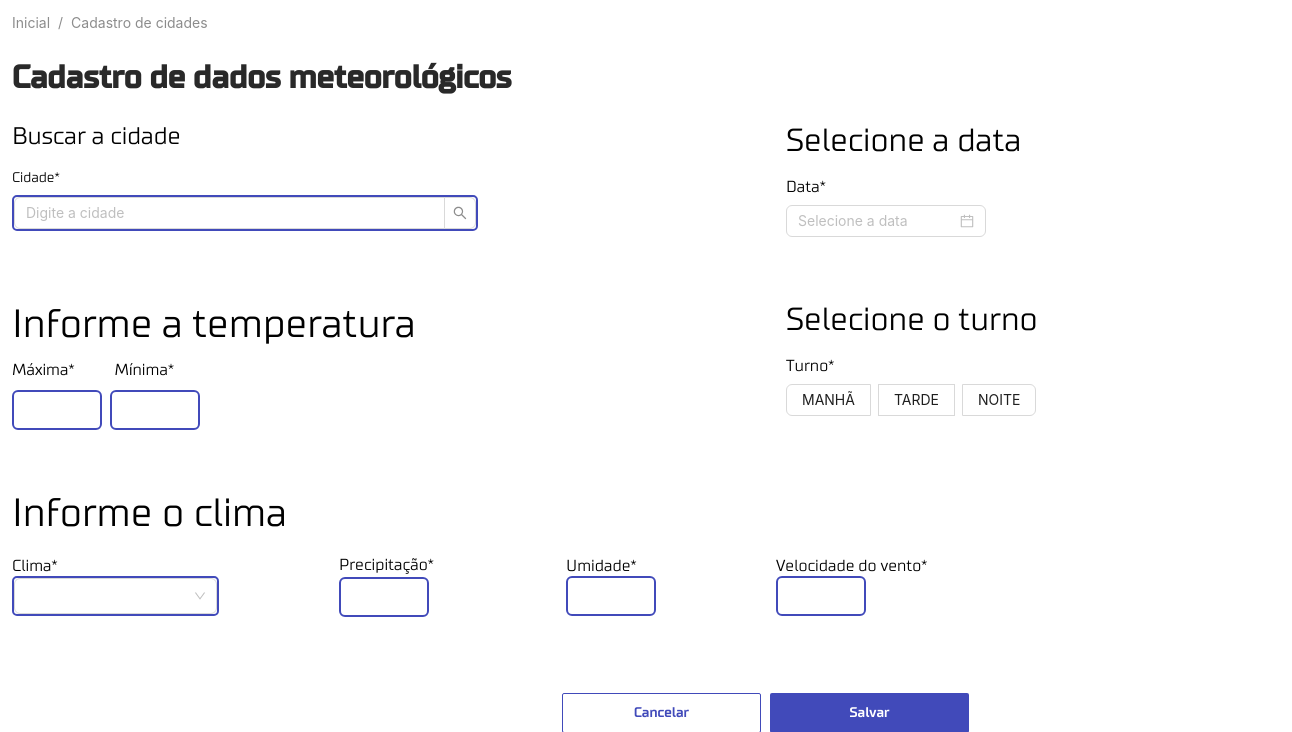
Test case: CadastroCidadePage › Componente de informação do clima › Deve preencher a precipitação corretamente
In the number field with test id "input_precipitacao": (384, 594) [341,579,427,609], type "1"
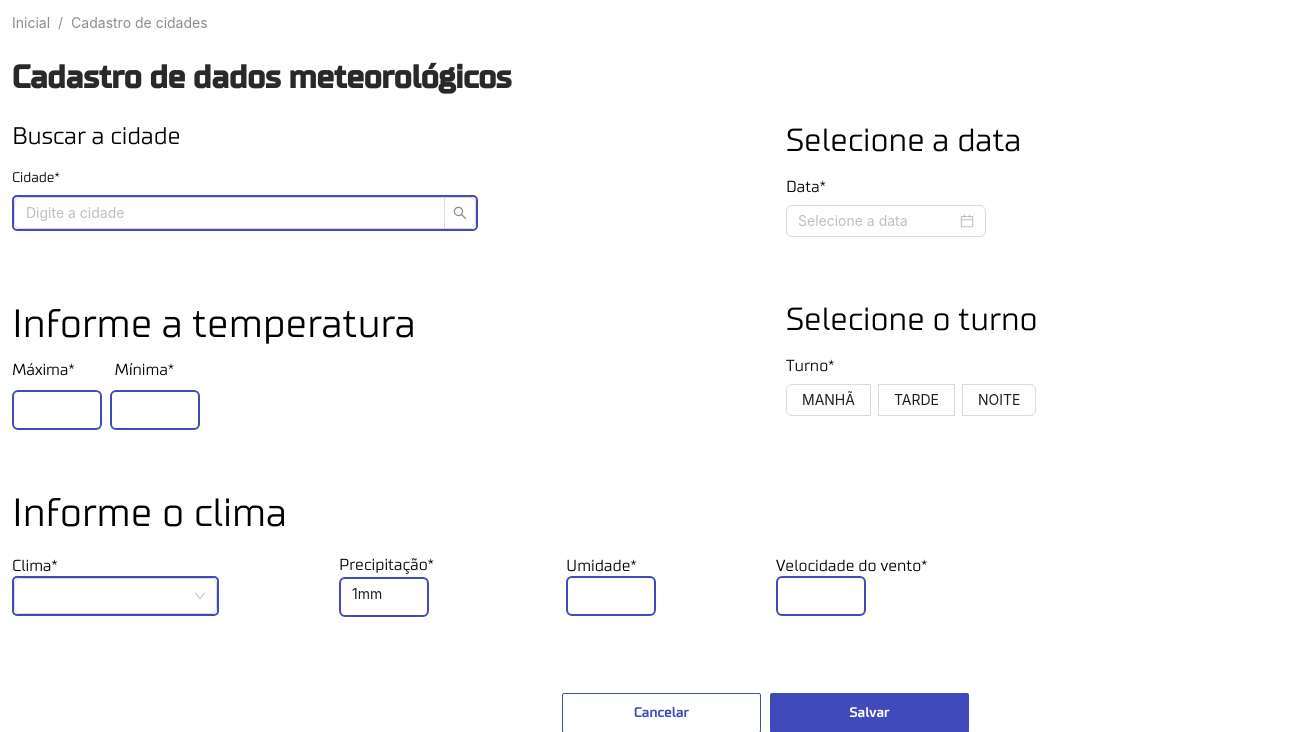
expect the number field with test id "input_precipitacao" holds "1mm": met, box [341,579,427,609]
